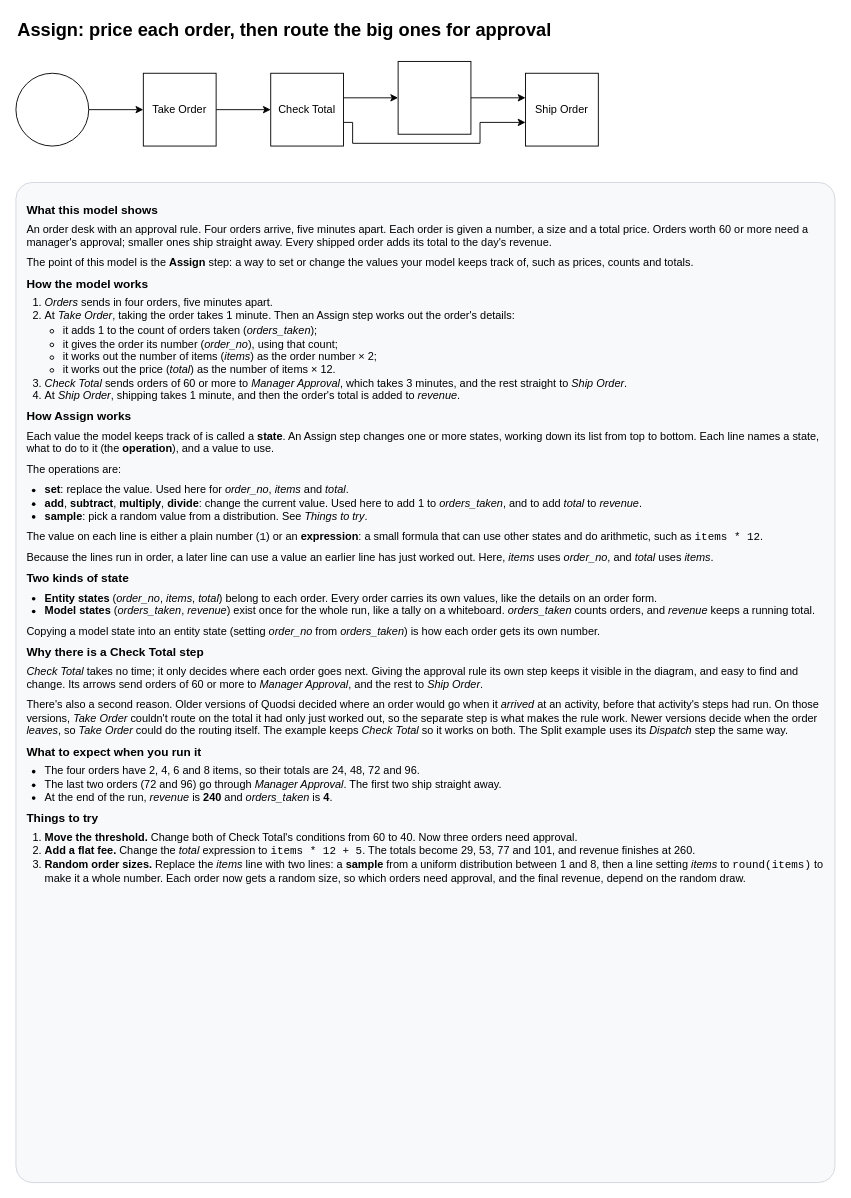
Image size: 851x1198. Some labels were removed from this diagram. Here are the shapes that lost their labels. From the top down, the box of each, then its label:
(15, 72, 89, 146): Orders Arrive
(397, 61, 471, 134): Manager Approval
